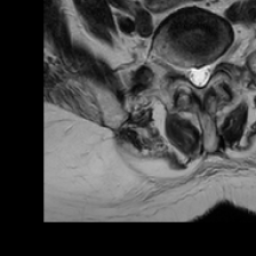CCS_stenosis: (195, 55, 203, 96)
LFS_stenosis: (211, 44, 221, 75)
LLS_normal: (203, 54, 213, 92)
RFS_normal: (175, 54, 185, 86)
RLS_normal: (185, 57, 195, 92)
